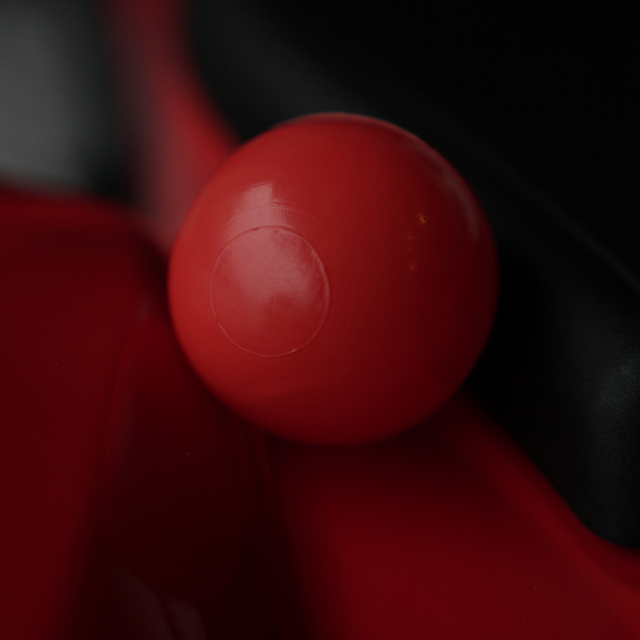Ball: (165, 113, 494, 443)
